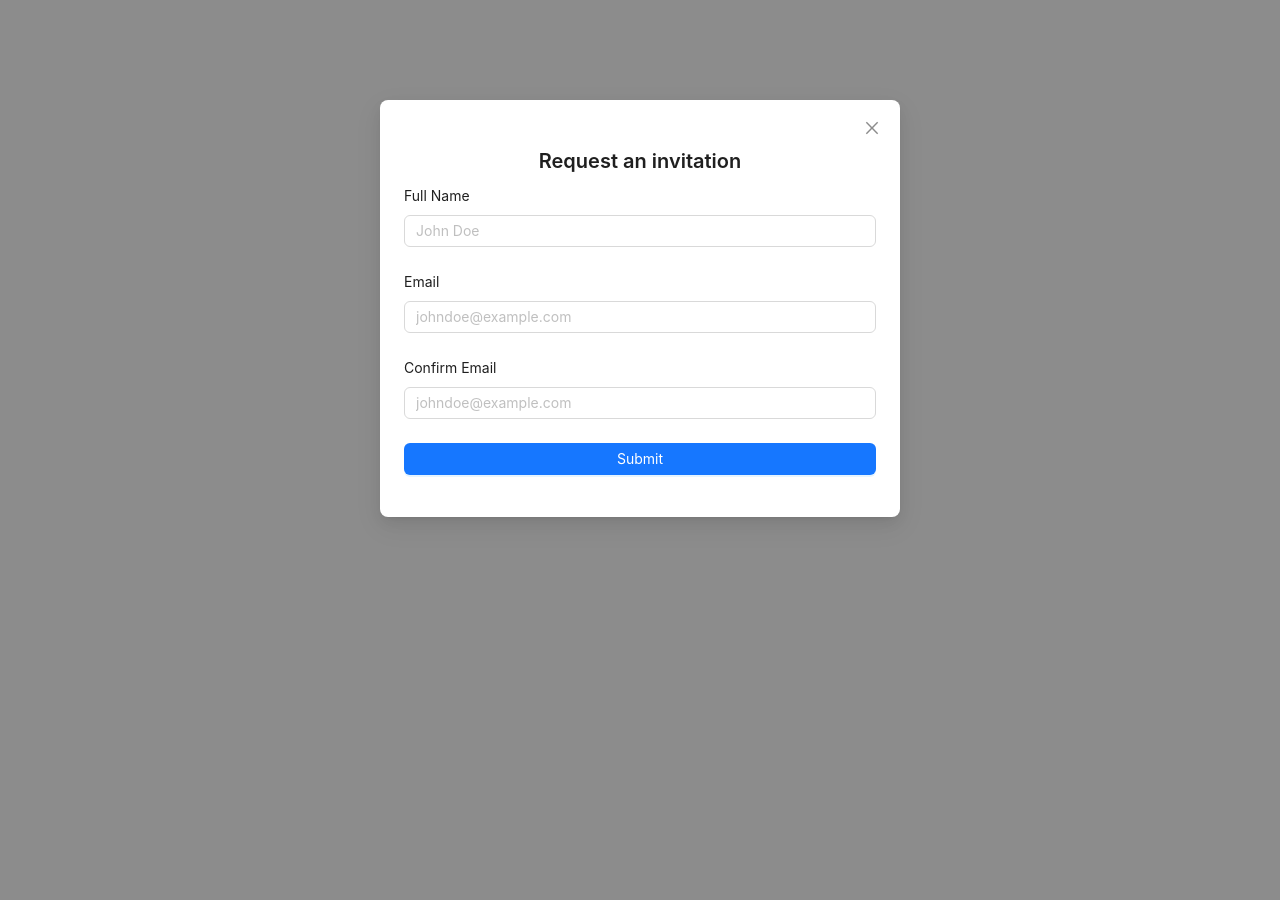
Test: RequestInviteModal Component › shows error when name length is less than 3
The width and height of the screenshot is (1280, 900).
Type "jo" into the field labelled "Full Name".
click(632, 231); type("jo")  # box [416,220,848,242]
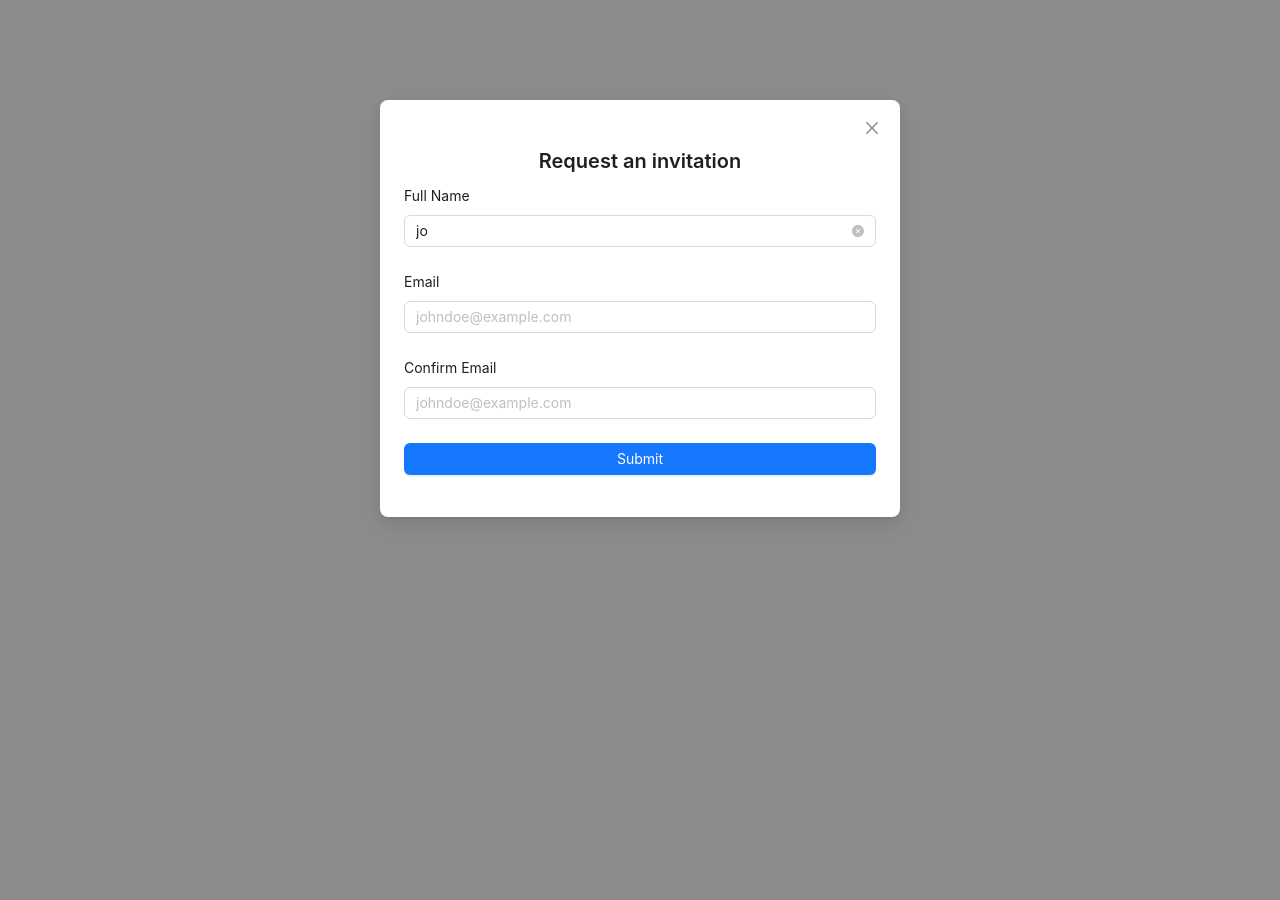
Click the button "Submit".
click(640, 459)  # box [404,443,876,475]
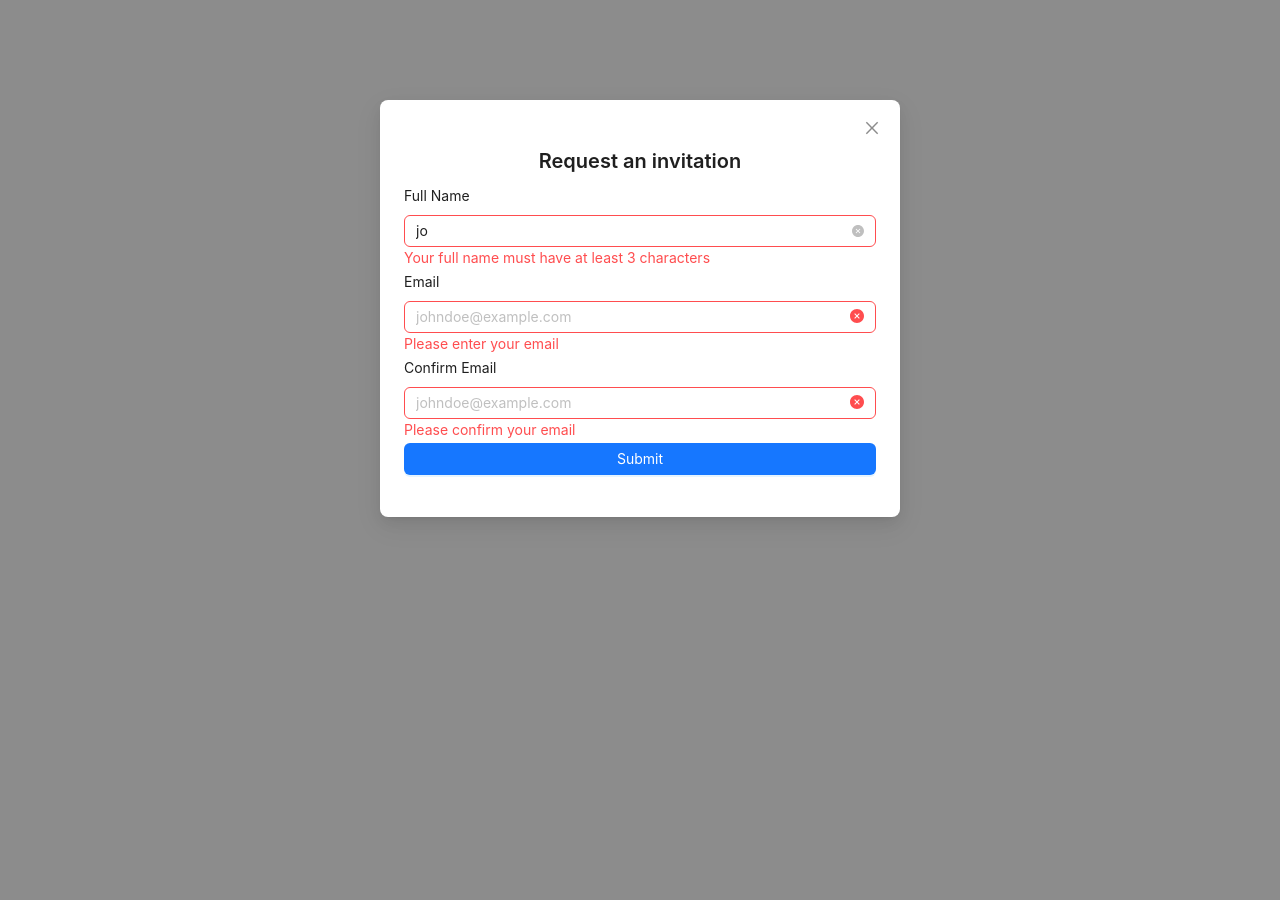
expect the text "Your full name must have at least 3 characters" is shown: met, box [404,249,710,266]
